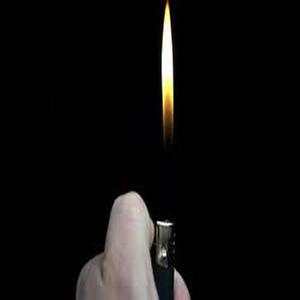fire: (160, 4, 186, 143)
